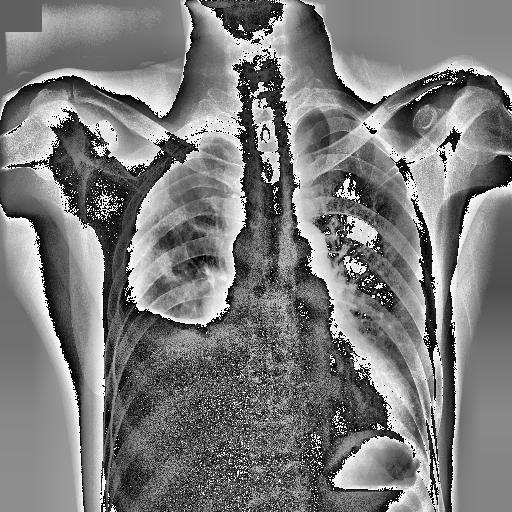0- Aortic enlargement: (278, 222, 330, 297)
10- Pleural effusion: (113, 289, 242, 441), (112, 274, 208, 452), (101, 298, 254, 396)
11- Pleural thickening: (151, 122, 221, 182), (160, 130, 251, 165), (164, 129, 218, 171), (296, 106, 362, 130), (310, 104, 354, 120)
3- Cardiomegaly: (212, 322, 418, 440), (216, 366, 418, 444)
4- Consolidation: (153, 246, 177, 282)
7- Lung Opacity: (156, 247, 180, 286), (154, 250, 176, 282)
8- Nodule-Mass: (202, 286, 238, 330)
9- Other lesion: (156, 247, 180, 286)
